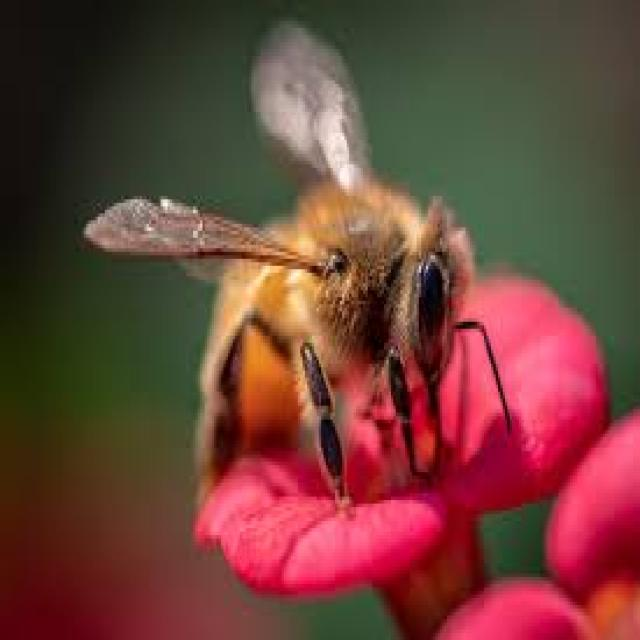Bees: (83, 20, 512, 517)
